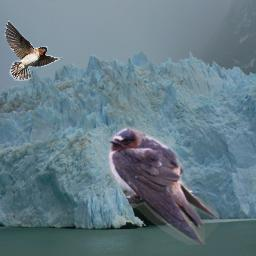Swallow: (106, 126, 219, 245), (4, 20, 64, 81)
